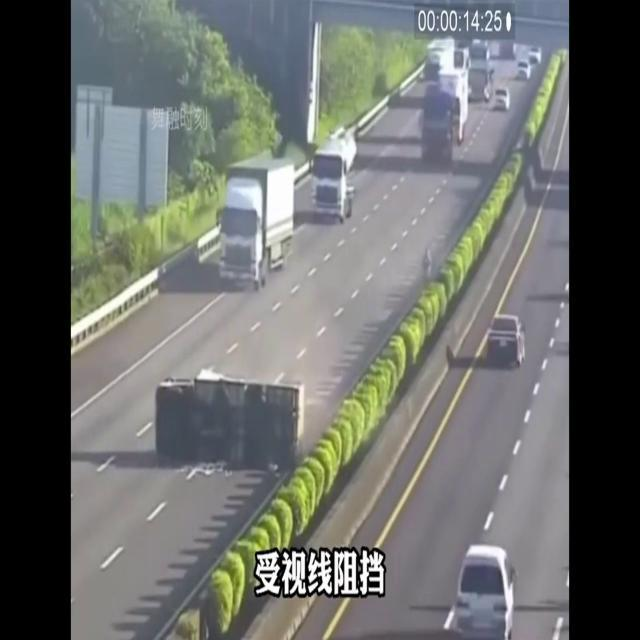single accident: (129, 356, 345, 498)
